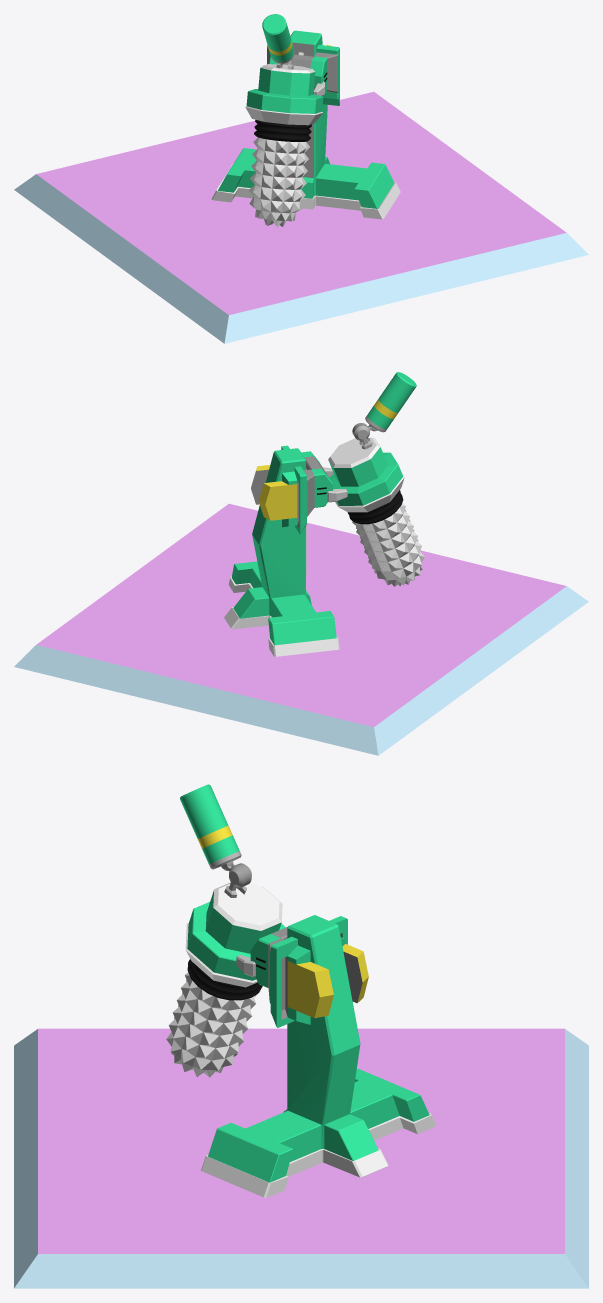
The model's file is Haarvester kek.fbx.
3 renders of one model, top to bottom at view 1: azimuth 30°, elevation 25°; view 2: azimuth 150°, elevation 25°; view 3: azimuth 270°, elevation 25°, orthographic. The views are drawn at different scales.
Visible parts, largest first — view 1: foundation1, base1, pSphere62, drill, elevator3, pCylinder262, pCylinder261; view 2: foundation1, base1, drill, elevator3, pSphere62, pCylinder262, pCylinder261; view 3: foundation1, base1, elevator3, drill, pSphere62, pCylinder262, pCylinder261.
Part boxes in pixels (x1,y1,x2,y2): foundation1: [14, 91, 588, 343]; base1: [211, 30, 400, 219]; pSphere62: [249, 137, 309, 226]; drill: [245, 64, 323, 125]; elevator3: [267, 44, 339, 105]; pCylinder262: [262, 14, 294, 63]; pCylinder261: [254, 120, 311, 141]; foundation1: [14, 503, 588, 755]; base1: [224, 448, 339, 656]; drill: [328, 437, 404, 512]; elevator3: [251, 445, 332, 533]; pSphere62: [352, 503, 424, 586]; pCylinder262: [365, 372, 416, 432]; pCylinder261: [347, 490, 403, 524]; foundation1: [14, 1028, 588, 1288]; base1: [201, 915, 436, 1197]; elevator3: [250, 916, 368, 1027]; drill: [185, 882, 285, 987]; pSphere62: [166, 972, 260, 1077]; pCylinder262: [180, 784, 241, 869]; pCylinder261: [187, 959, 262, 1000].
Size of the model in its own units: 200 by 131 by 200.
Materials: 2 (2 with a texture image).
